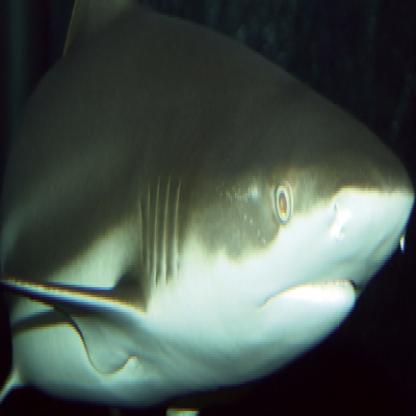shark: (1, 1, 416, 412)
